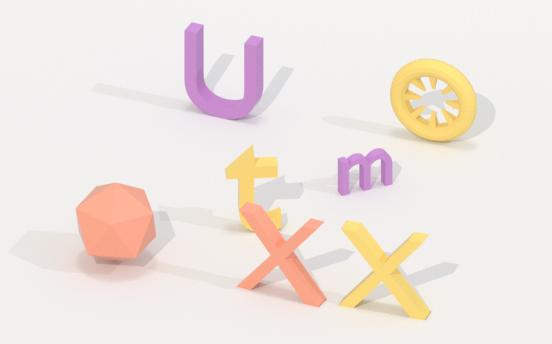dagiac: (68, 184, 163, 262)
m: (334, 147, 398, 197)
t: (226, 144, 285, 233)
tron: (387, 58, 482, 144)
u: (172, 22, 276, 121)
x: (232, 205, 332, 304), (337, 223, 439, 320)
